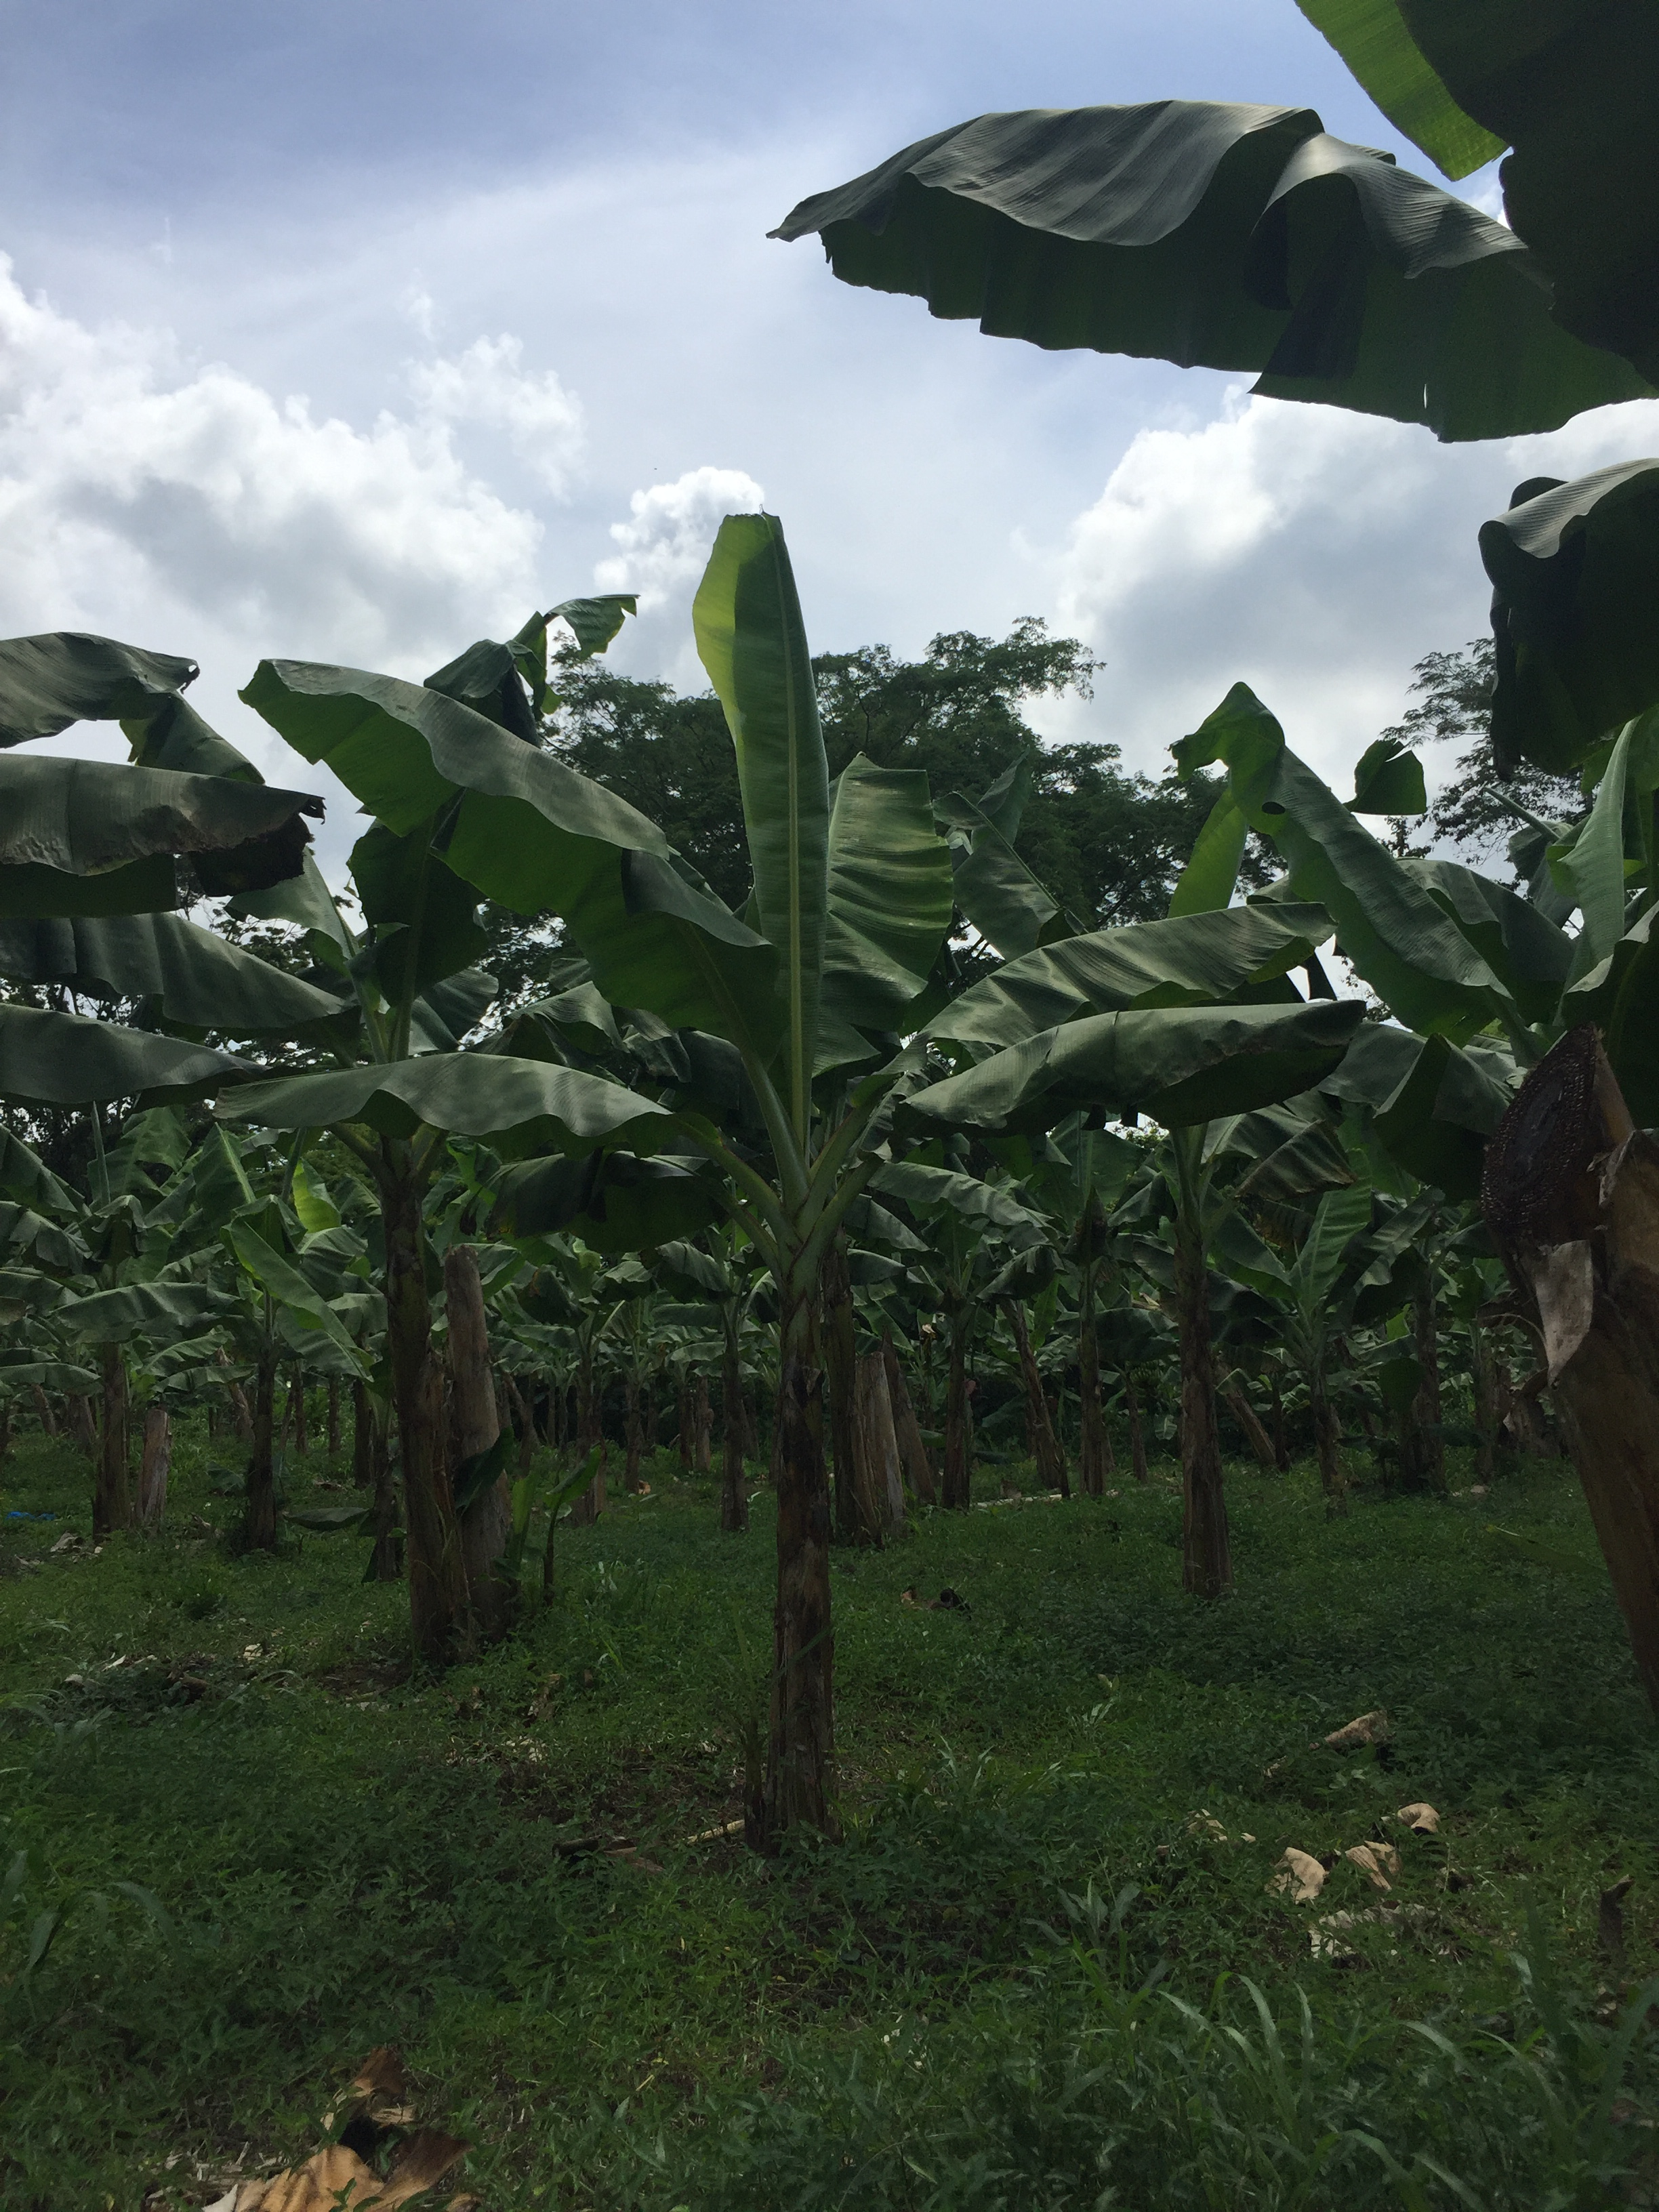candleleafs: (692, 514, 817, 1167)
